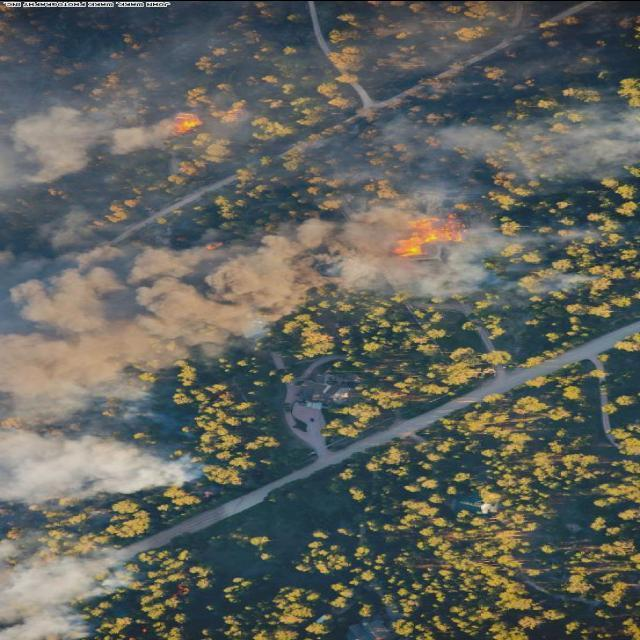Fire: (388, 202, 482, 264), (160, 112, 202, 132)
